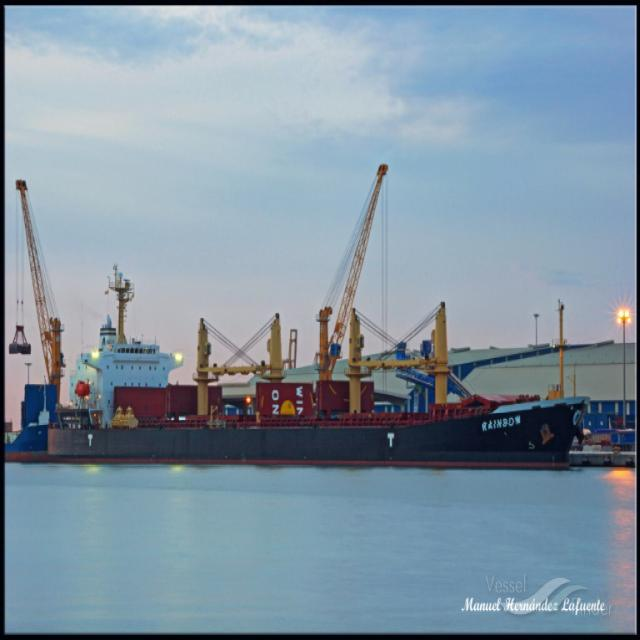OCR: (475, 413, 524, 436)
